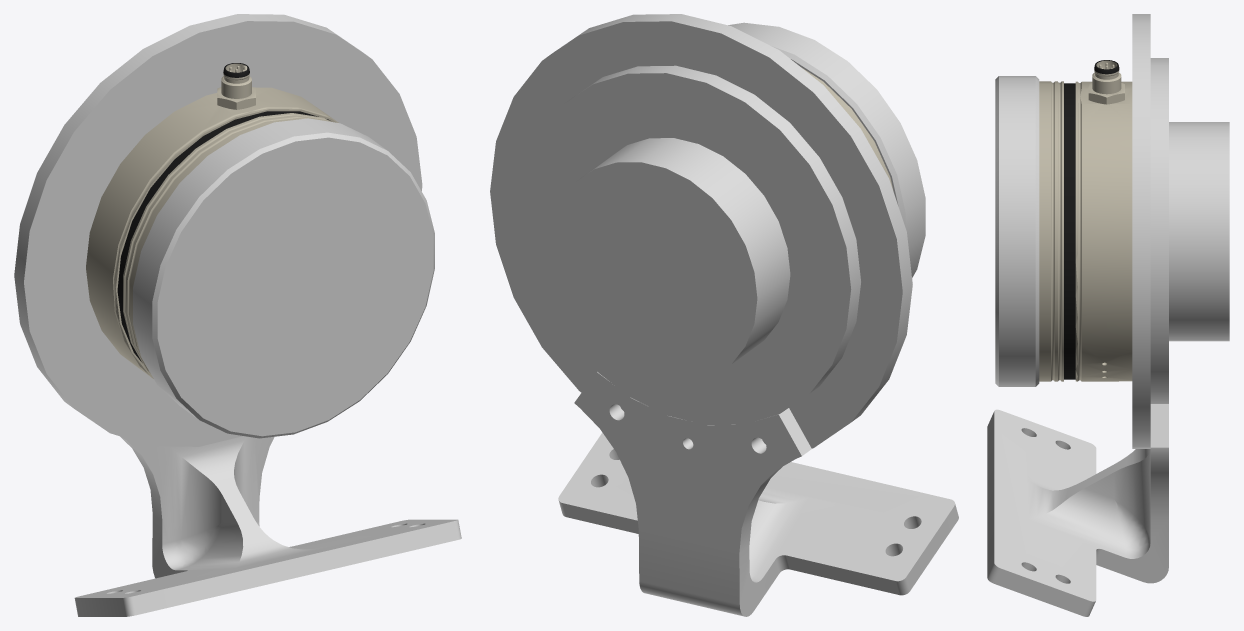
File: camera_mount.glb
3 views of the same model, side by side, from view 1: azimuth 30°, elevation 25°; view 2: azimuth 150°, elevation 25°; view 3: azimuth 270°, elevation 25° (orthographic). The views are drawn at different scales.
Visible parts, largest first — view 1: V1012115.001; view 2: V1012115.001; view 3: V1012115.001.
Boxes of the visible parts, <box> form: V1012115.001: <box>14,14,461,616</box>; V1012115.001: <box>490,14,958,616</box>; V1012115.001: <box>987,14,1229,616</box>.
Size of the model in its own units: 0.119 by 0.1587 by 0.066.
